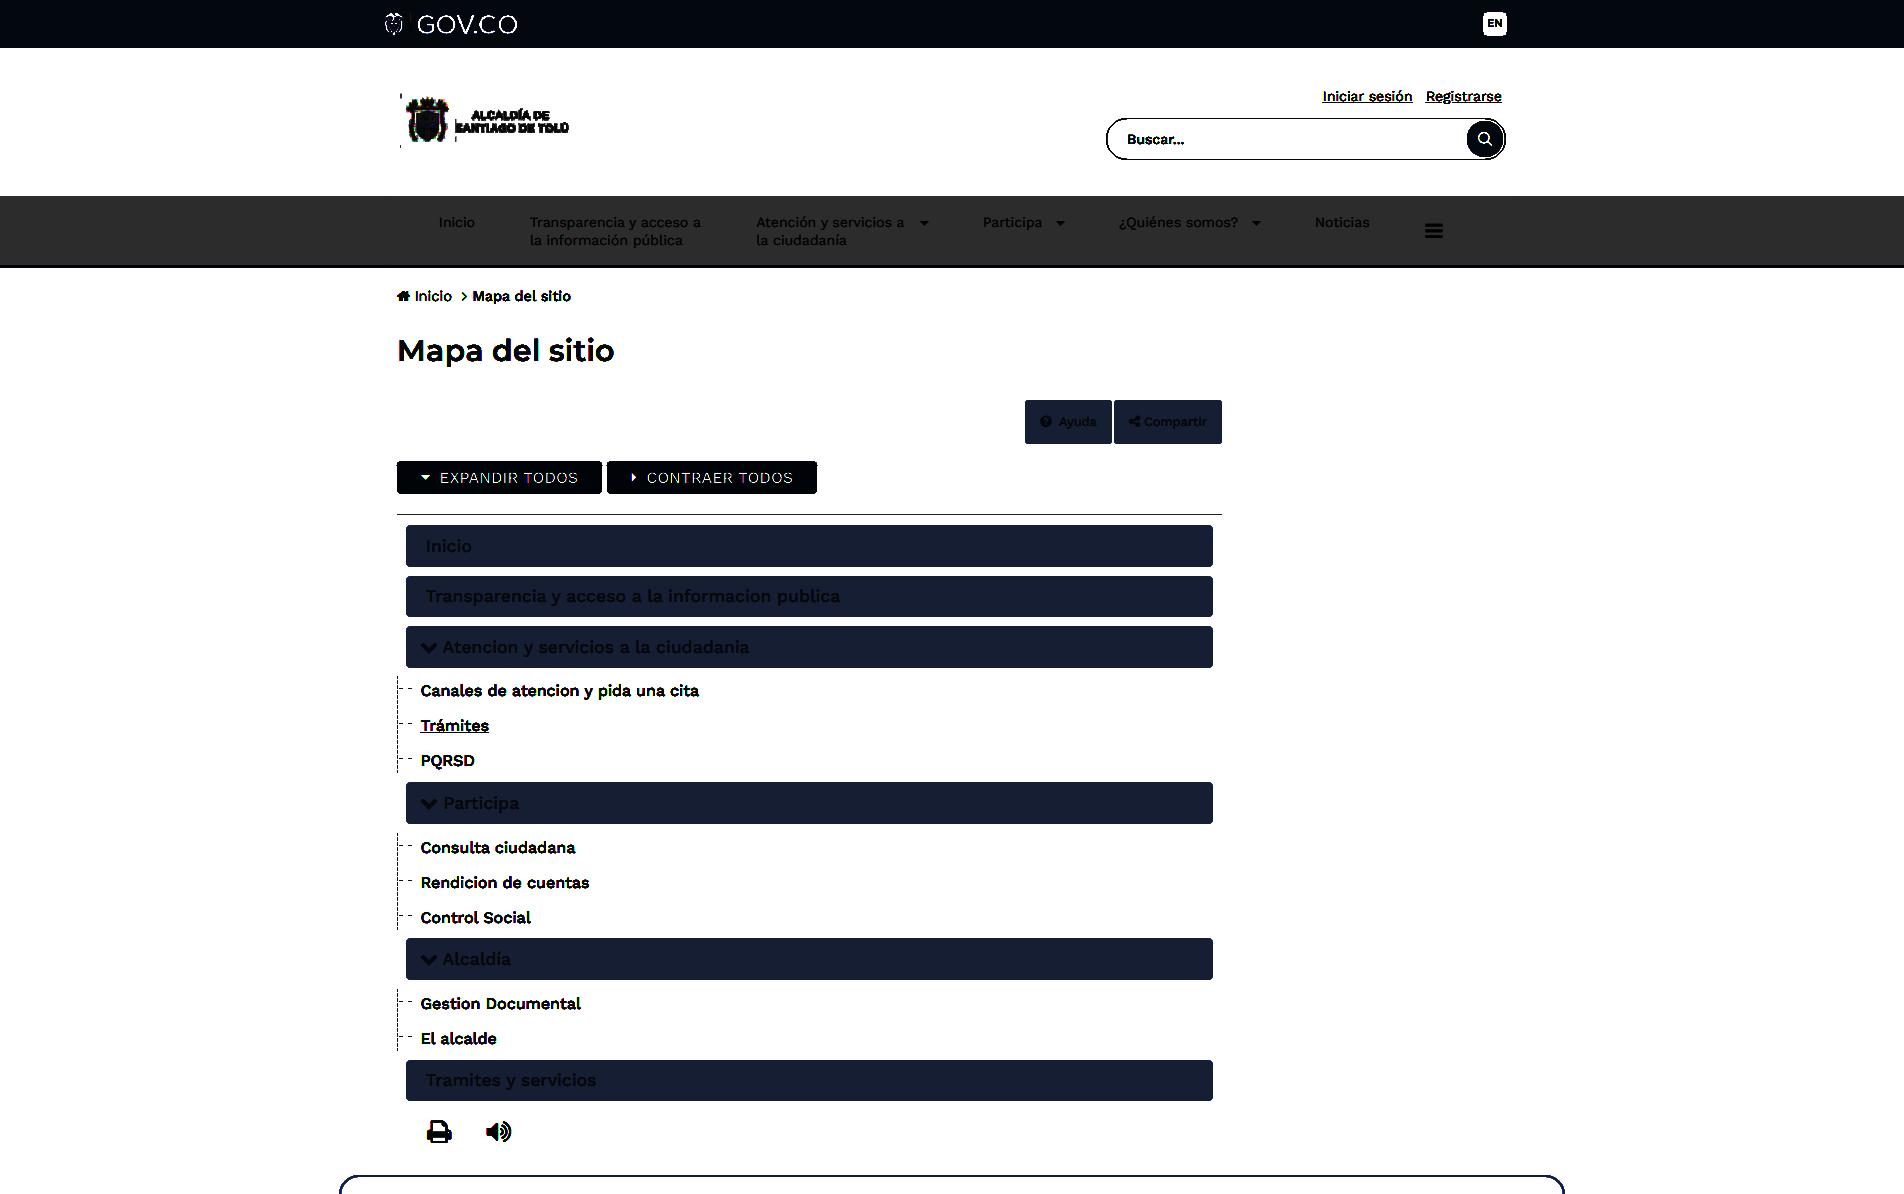barra govco: (378, 0, 1510, 50)
btn atencion ciudadano: (442, 634, 754, 659), (752, 211, 932, 250)
btn buscador: (1103, 114, 1509, 164)
btn idiomas: (1482, 10, 1508, 38)
btn inicio: (420, 534, 500, 558), (436, 213, 476, 231)
btn inicio sesion: (1321, 87, 1415, 107)
btn noticias: (1310, 210, 1375, 233)
btn participa: (442, 789, 533, 816), (980, 212, 1066, 232)
btn quienes somos: (1116, 212, 1262, 233)
btn registro: (1423, 86, 1504, 107)
btn tramites: (422, 1066, 599, 1092), (416, 714, 495, 738)
btn transpariencia: (419, 581, 848, 609), (525, 211, 705, 252)
footer: (331, 1166, 1569, 1194)
logogovco: (382, 5, 522, 41)
mapa sitio: (396, 334, 615, 365), (471, 287, 574, 303)
menu principal: (433, 189, 1452, 258)
